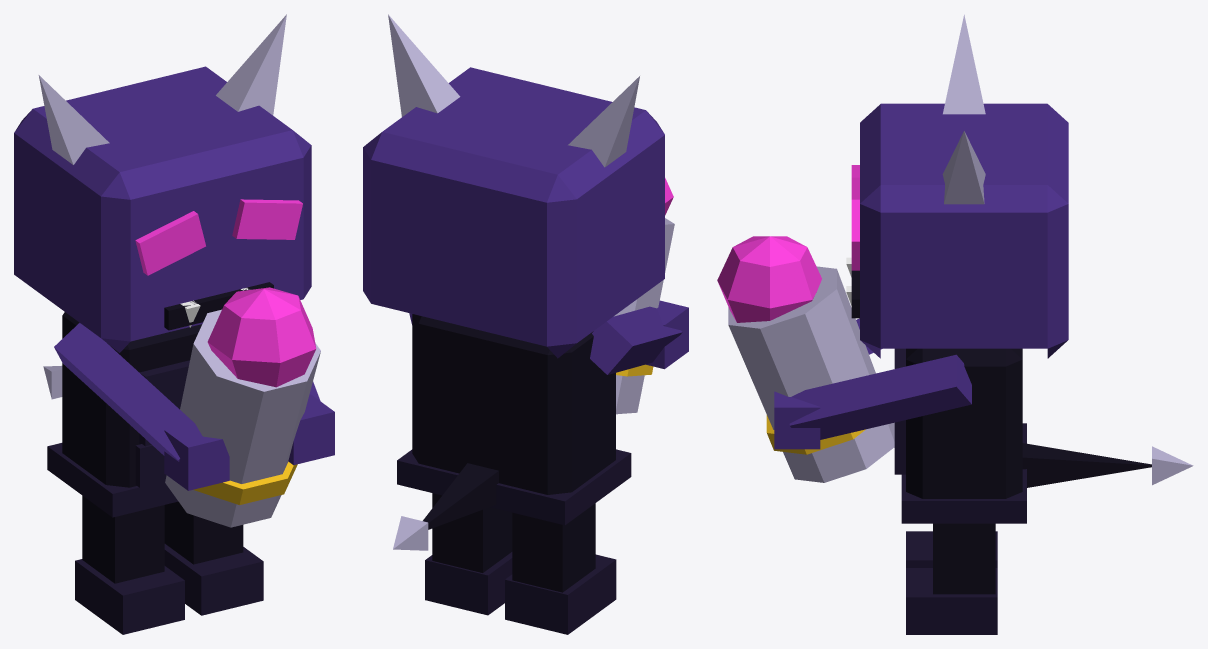
Rendered from mortar_r16.glb.
3 views of the same model, side by side, from view 1: azimuth 30°, elevation 25°; view 2: azimuth 150°, elevation 25°; view 3: azimuth 270°, elevation 25° (orthographic). The views are drawn at different scales.
Visible parts, largest first — view 1: mortar_r16_mesh; view 2: mortar_r16_mesh; view 3: mortar_r16_mesh.
Part boxes in pixels (x1=…): mortar_r16_mesh: x1=14, y1=14, x2=334, y2=634; mortar_r16_mesh: x1=363, y1=14, x2=688, y2=634; mortar_r16_mesh: x1=717, y1=14, x2=1193, y2=634.
Size of the model in its own units: 0.8014 by 1.7 by 1.39.
Materials: 1 (1 with a texture image).
